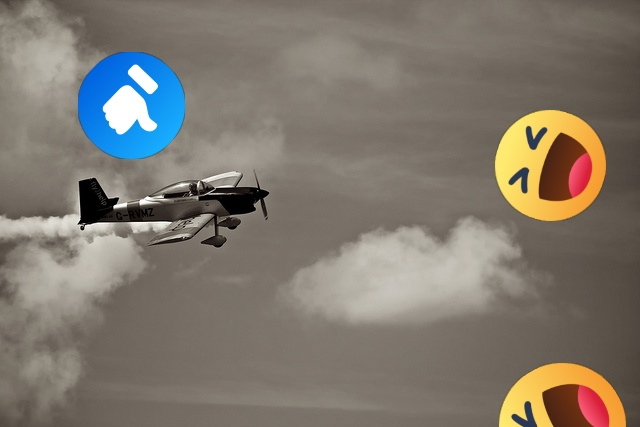haha: (495, 110, 606, 221), (499, 363, 626, 427)
like: (78, 52, 185, 159)
